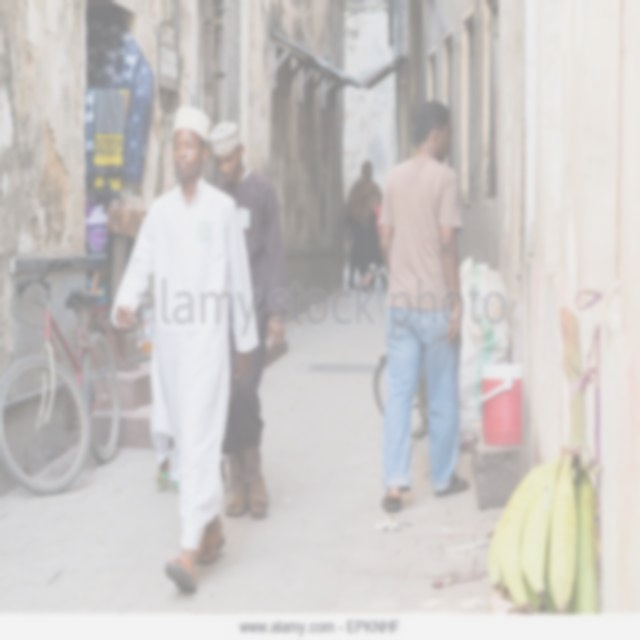pessoa: (102, 99, 265, 602), (370, 93, 483, 520), (203, 115, 293, 521), (147, 324, 185, 496), (86, 266, 142, 374), (343, 157, 385, 290)
